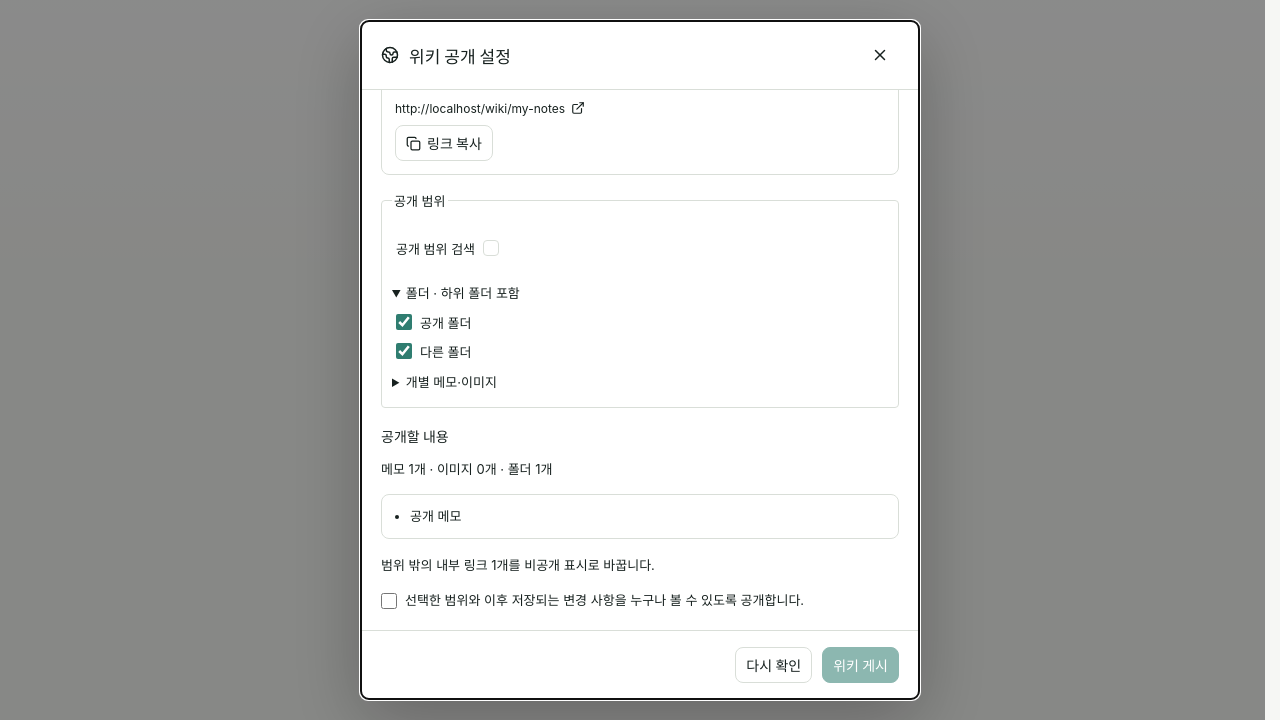
workspace wiki publication dialog › preserves previous grants when adding a folder and resets consent when the selection changes
The image size is (1280, 720).
(page scrolled)
Expected: the list item "공개 메모" is shown, [410,508,462,524]
Click the checkbox labelled "선택한 범위와 이후 저장되는 변경 사항을 누구나 볼 수 있도록 공개합니다.". click: (389, 601)
box: [381,593,397,609]
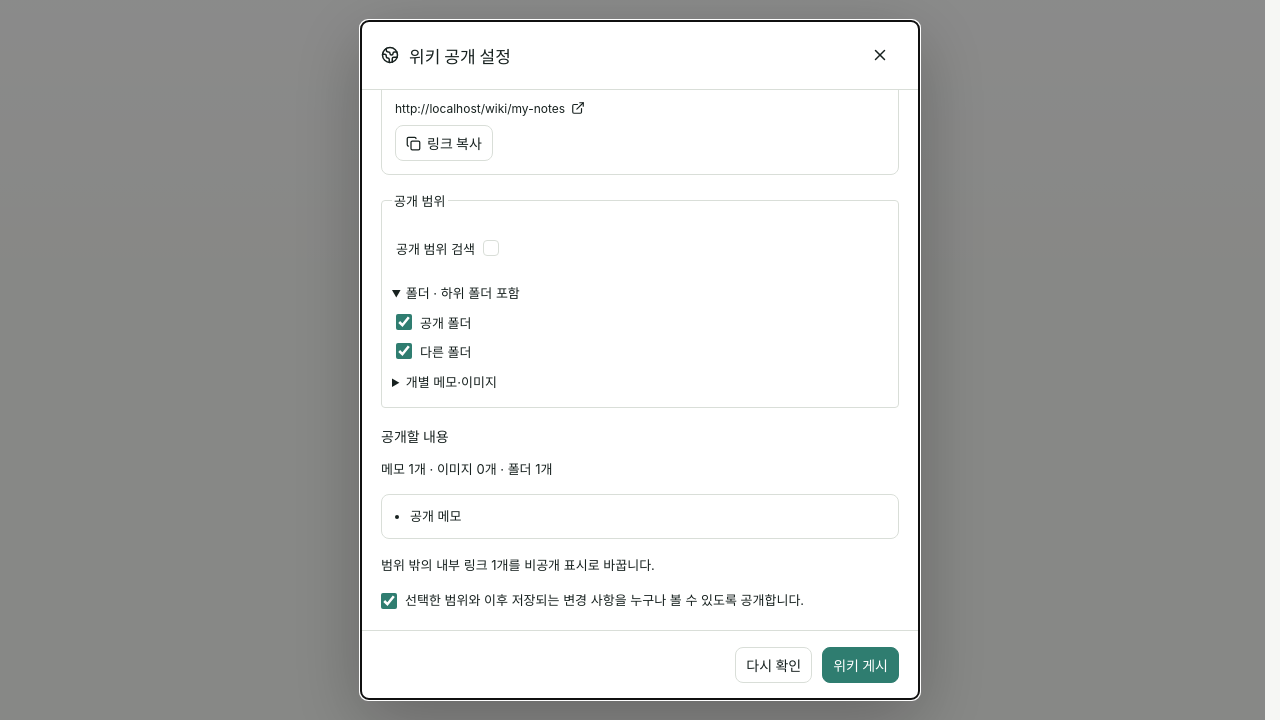
Click the checkbox labelled "다른 폴더". click: (404, 351)
box: [396,343,412,359]
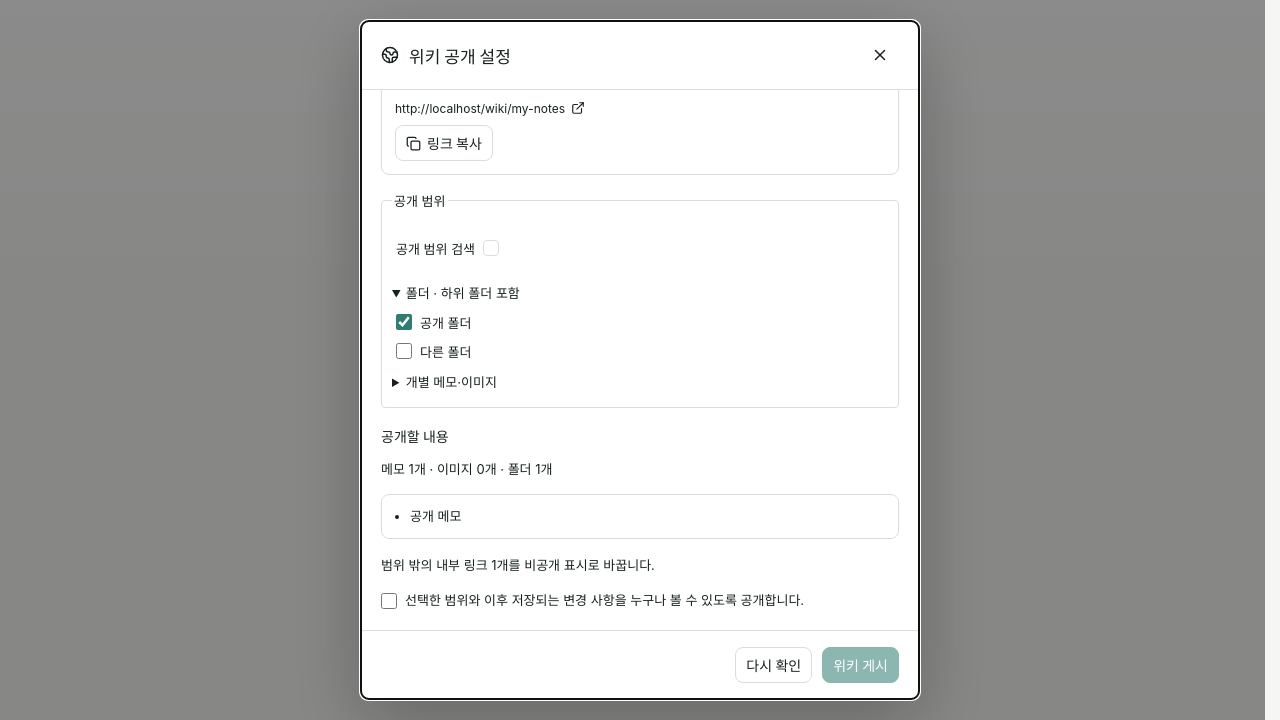
Expected: the checkbox labelled "선택한 범위와 이후 저장되는 변경 사항을 누구나 볼 수 있도록 공개합니다." is not checked, [381,593,397,609]
